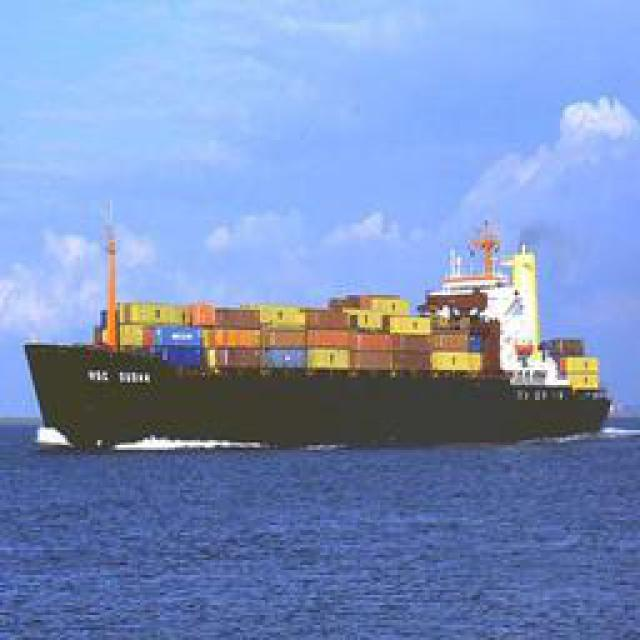Ship: (22, 226, 610, 444)
